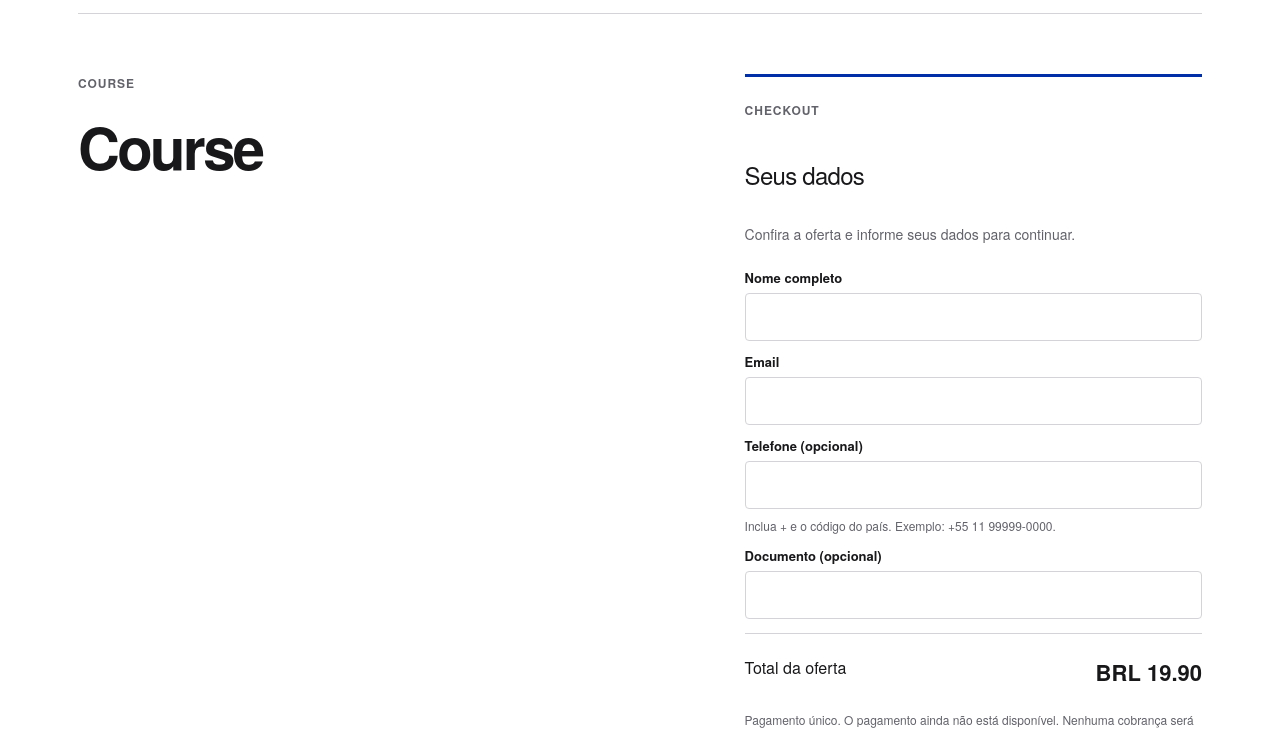
Test: requires an explicit country code instead of guessing from a local phone
Expected: the heading "Seus dados" is shown, left=745, top=157, right=864, bottom=192
Step 1. Type "Buyer Name" into the field labelled "Nome completo" → {"x": 973, "y": 317}, box left=745, top=293, right=1202, bottom=341
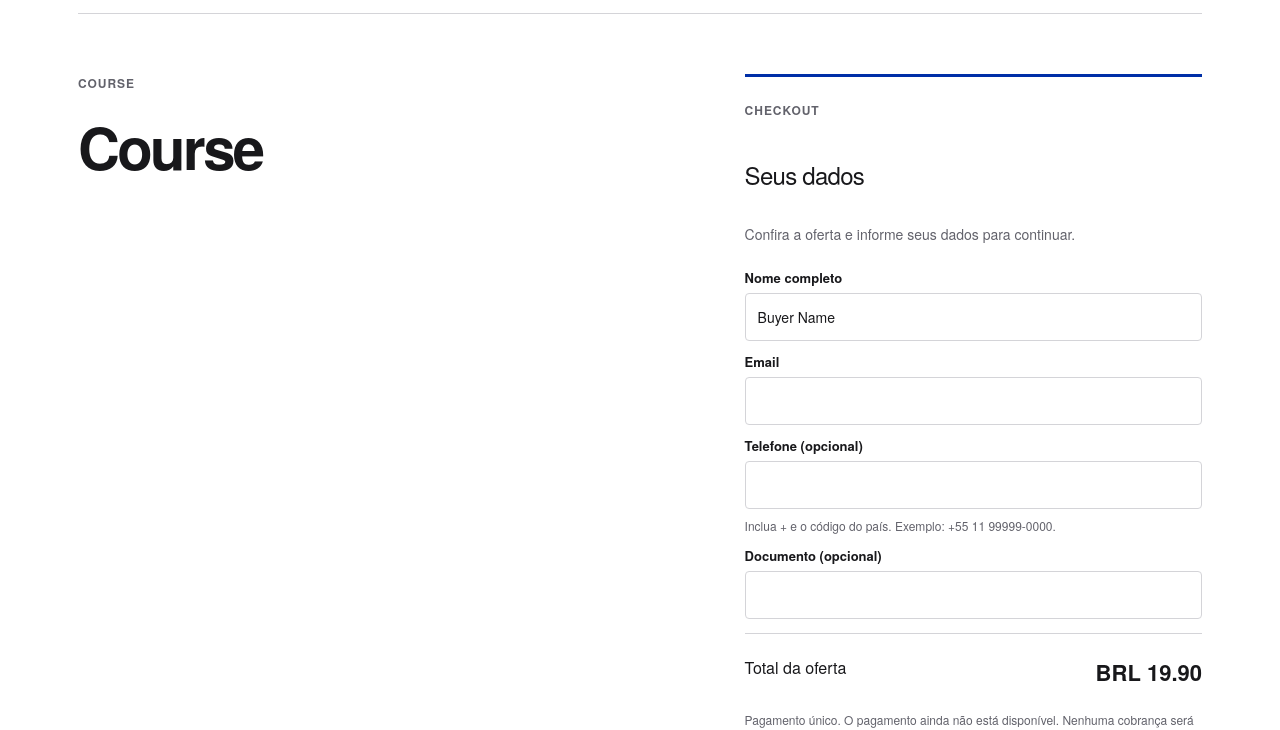
Step 2. Type "buyer@example.test" into the field labelled "Email" → {"x": 973, "y": 401}, box left=745, top=377, right=1202, bottom=425
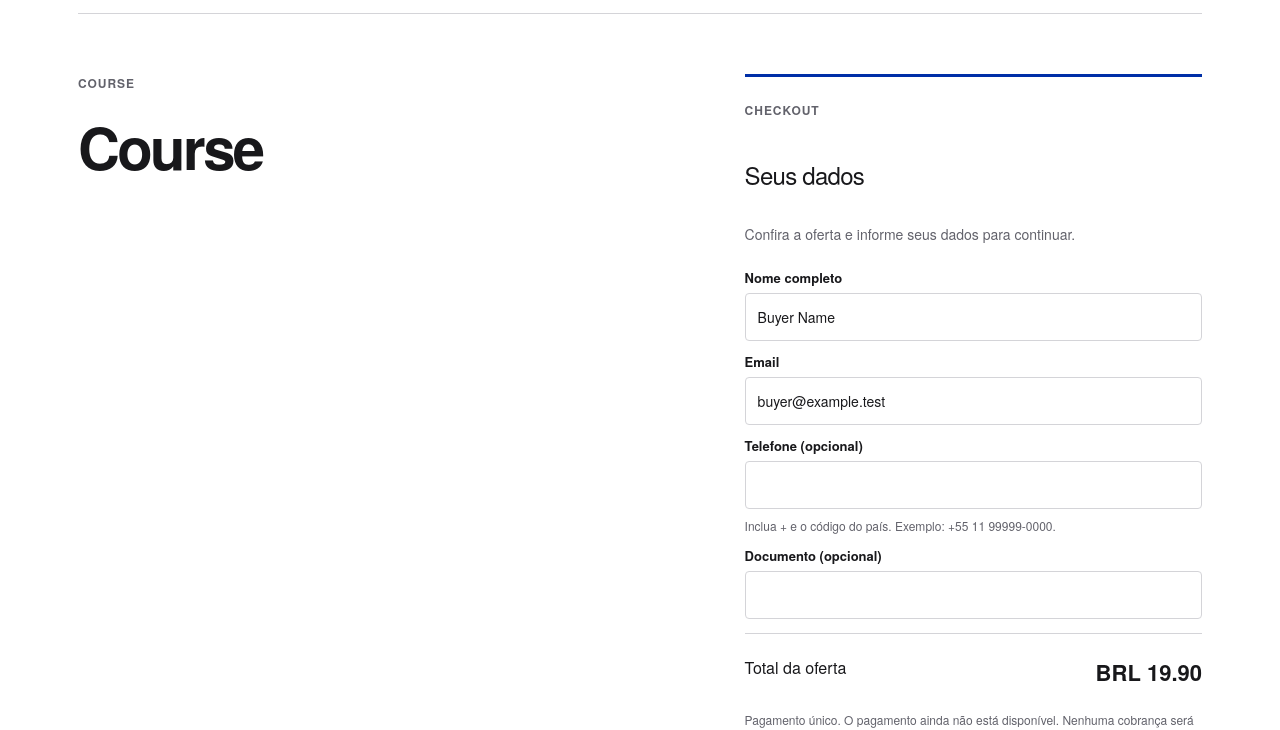
Step 3. Type "11999990000" into the field labelled "Telefone (opcional)" → {"x": 973, "y": 485}, box left=745, top=461, right=1202, bottom=509
(page scrolled)
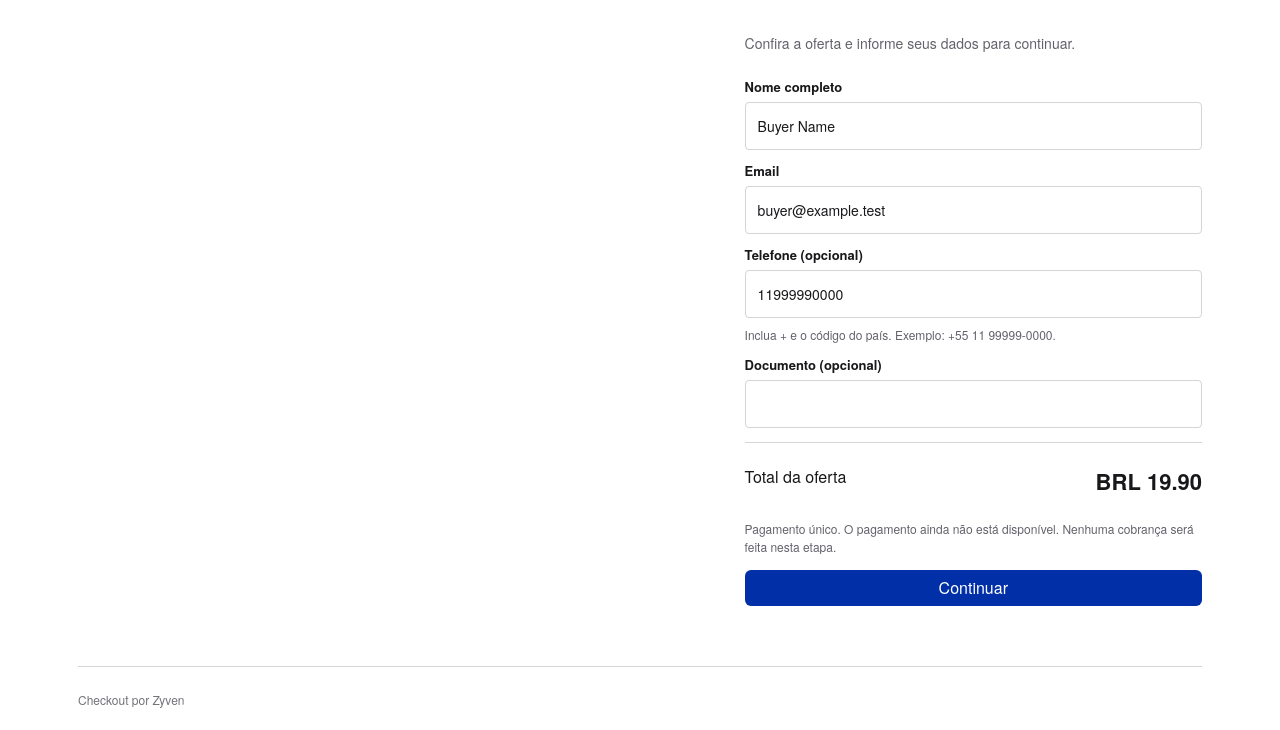
Step 4. Click the button "Continuar" → {"x": 973, "y": 588}, box left=745, top=570, right=1202, bottom=606
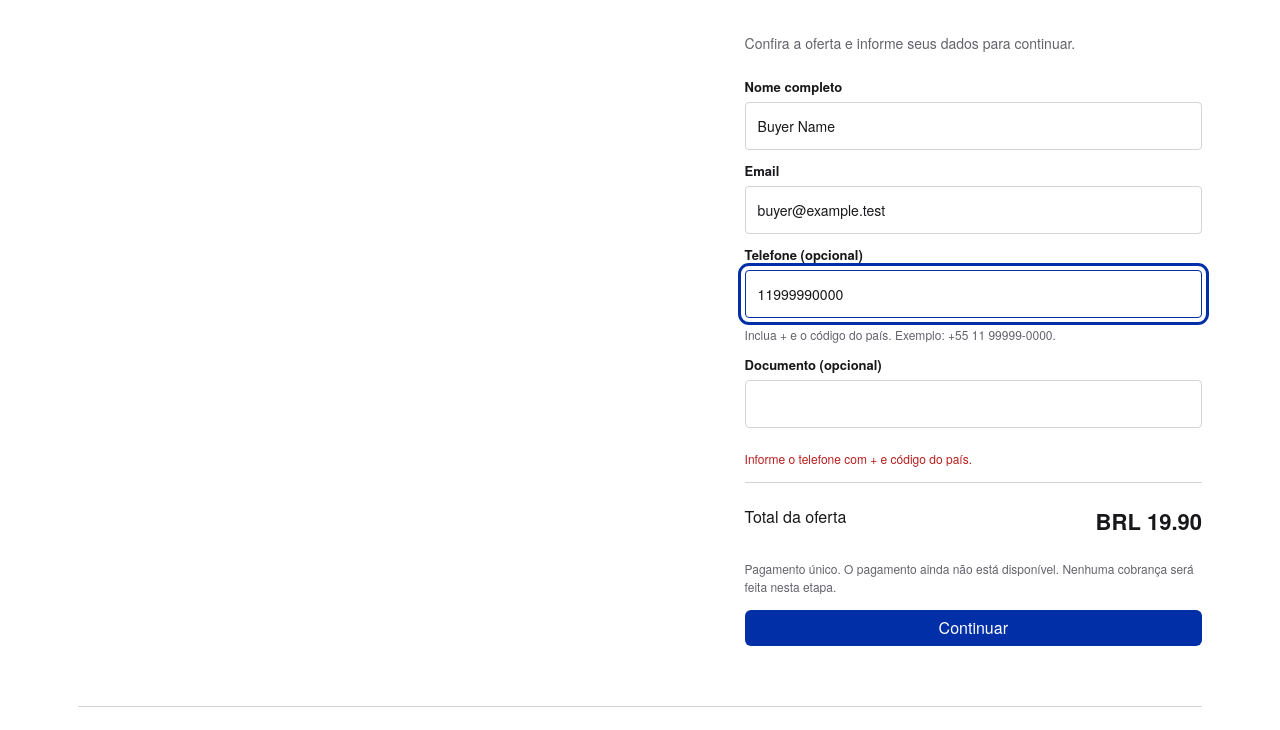
Expected: the text "Informe o telefone com + e código do país." is shown, left=745, top=450, right=972, bottom=467
